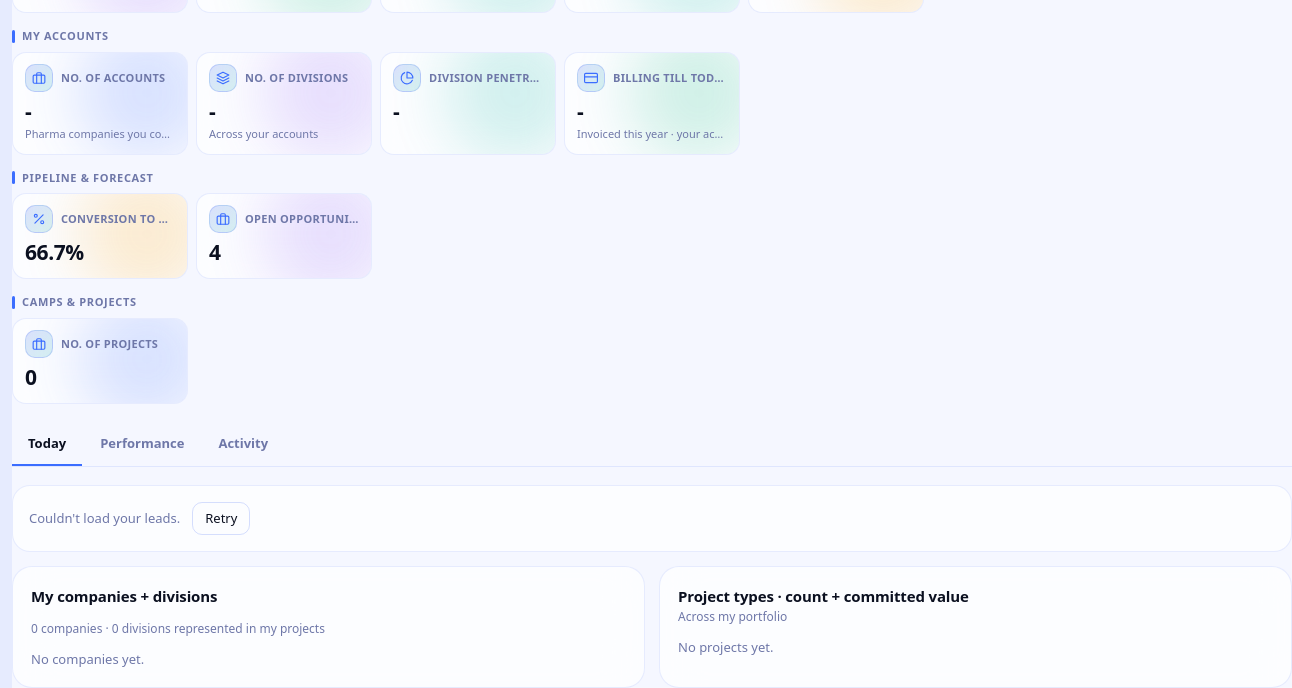
Test: SalesDashboardPage — a failed sweep must never render as real empty data › Activity: a failed lead sweep also surfaces a retry here, not a silent empty feed
(page scrolled)
Click the button "Activity" at (243, 445), box [202,424,284,466]
(page scrolled)
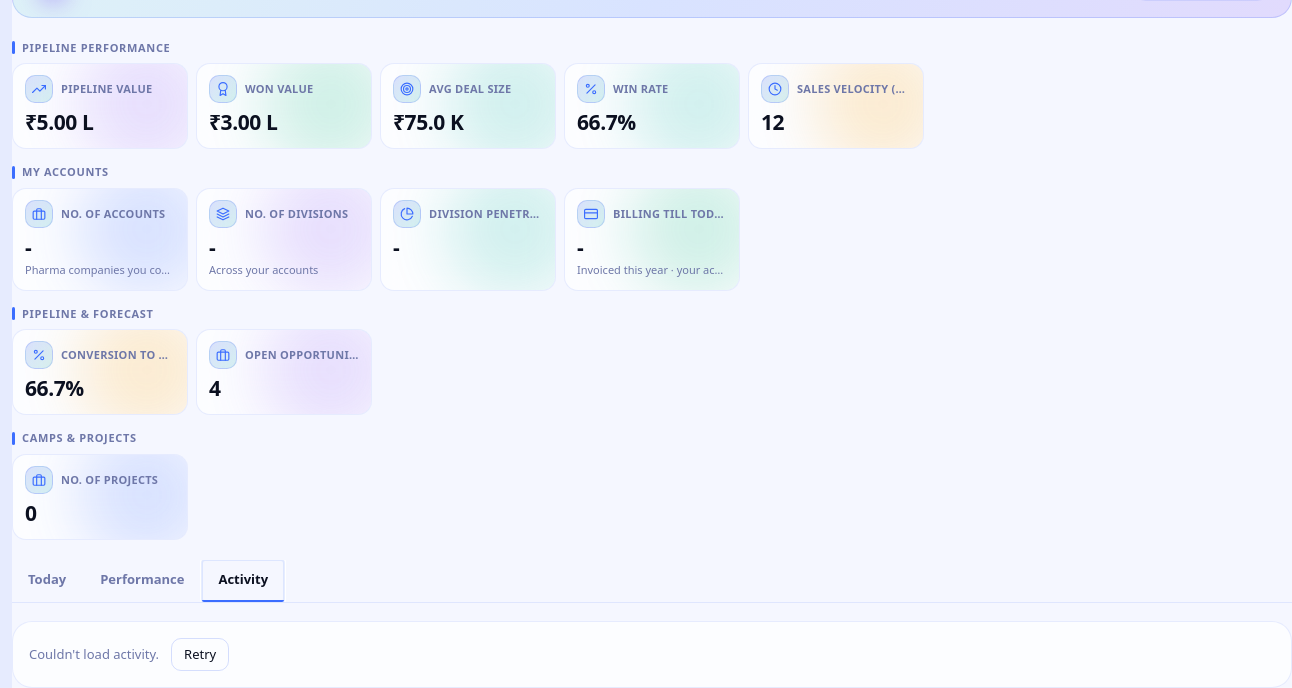
Expected: the text "Couldn't load activity." is shown, [29,644,159,664]
